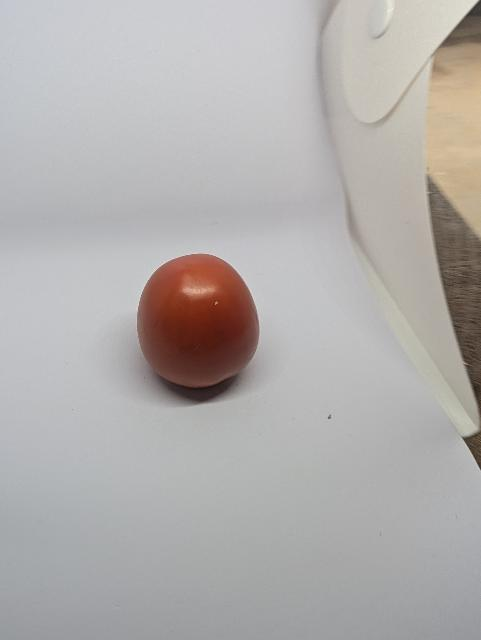red: (130, 251, 268, 403)
